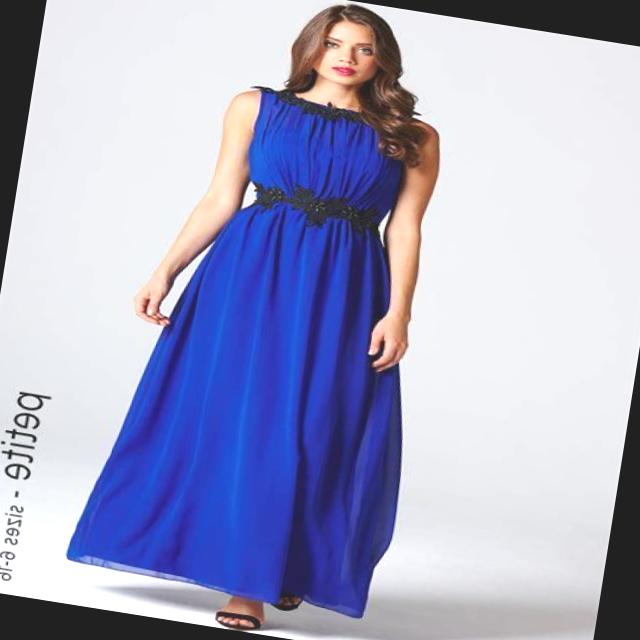dress: (64, 73, 460, 625)
